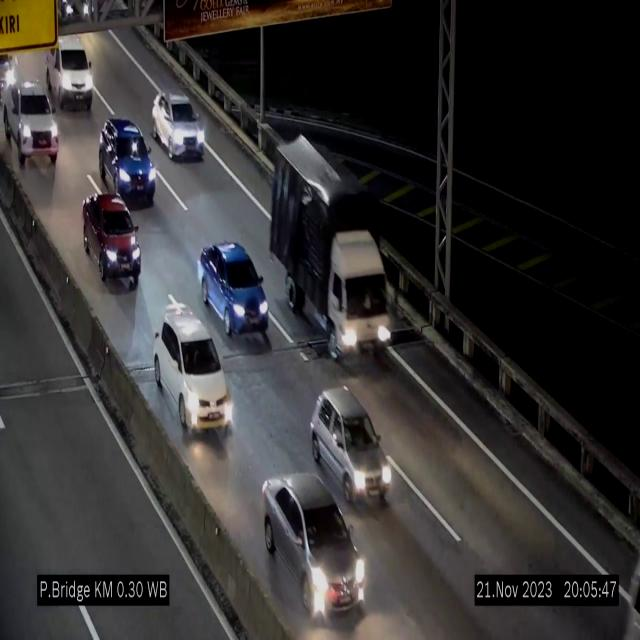Car: (255, 471, 368, 627), (153, 306, 231, 439), (310, 388, 390, 508), (198, 242, 270, 339), (82, 193, 140, 289), (99, 118, 156, 205), (4, 82, 61, 168), (40, 21, 92, 114), (152, 91, 206, 159)
Truck: (270, 137, 393, 363)
